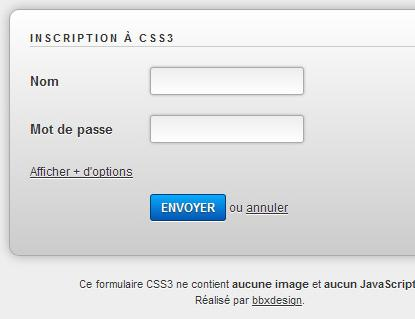button: (149, 191, 226, 223)
field: (148, 64, 306, 96), (148, 112, 305, 144)
field_with_label: (31, 62, 307, 98), (30, 110, 306, 146)
